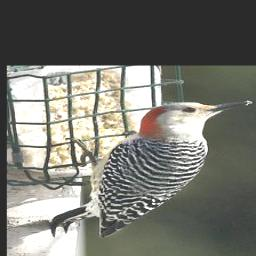Woodpecker: (49, 99, 253, 237)
